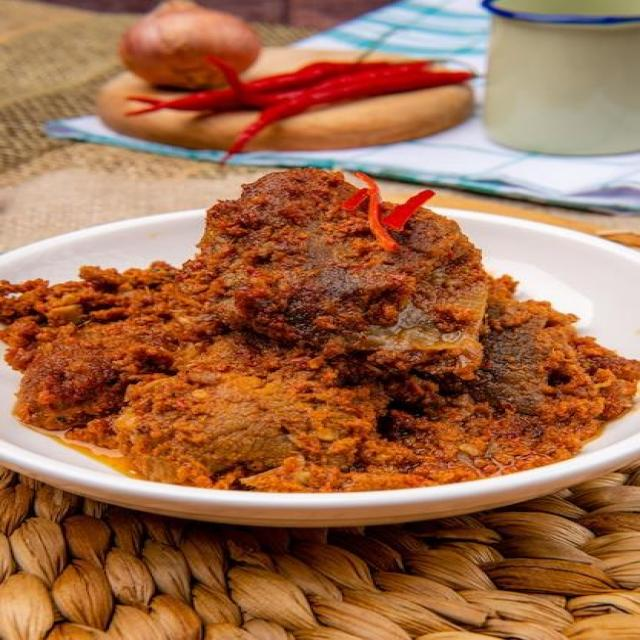Rendang: (14, 168, 640, 503)
